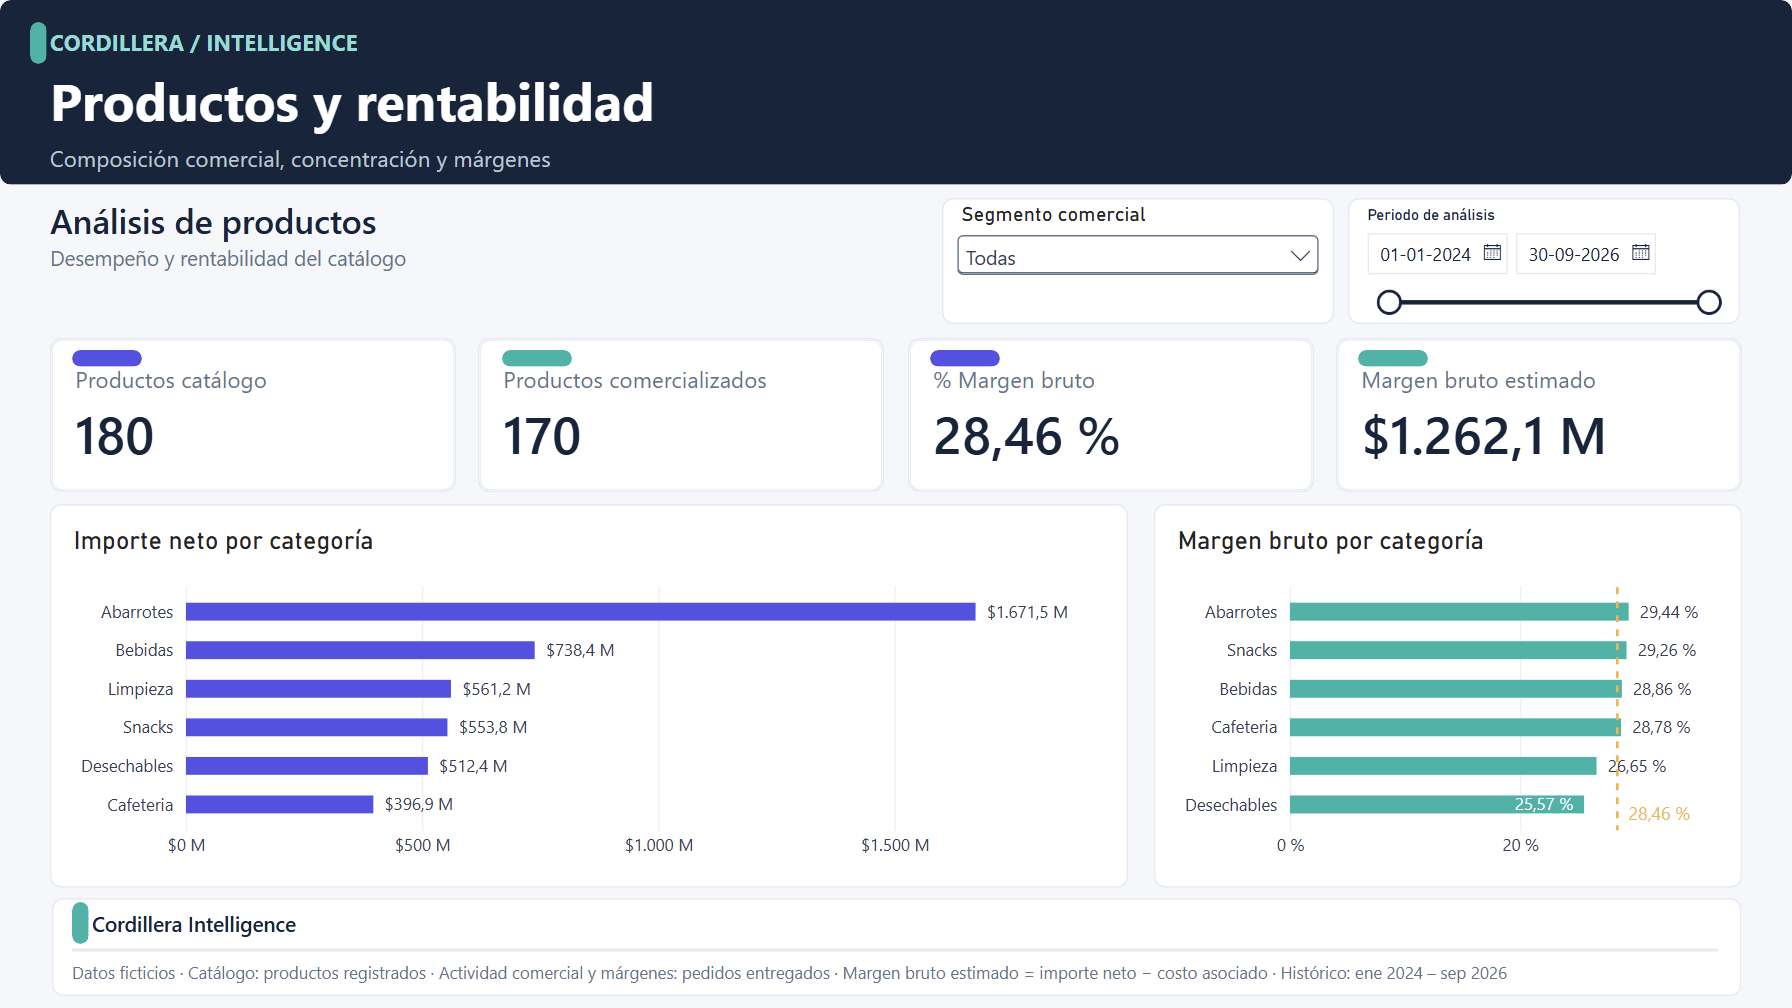

Layout of this report page (visuals, bound fields, positions):
{"tool":"powerbi","page":{"name":"03_Productos y rentabilidad","canvas":[1280,720],"ordinal":2},"visuals":[{"type":"shape","box":[0,0,1280,132],"z":0},{"type":"textbox","box":[36,18,600,28],"z":1000},{"type":"textbox","box":[36,46,720,50],"z":2000},{"type":"textbox","box":[36,101,700,26],"z":3000},{"type":"shape","box":[21,15,12,30],"z":4000},{"type":"slicer","fields":{"Values":["dim_cliente.segmento"]},"box":[673.3,141.7,280,90],"z":5000},{"type":"slicer","fields":{"Values":["dim_fecha.fecha"]},"box":[963.3,141.7,280,90],"z":6000},{"type":"textbox","box":[36,142,350,54],"z":7000},{"type":"textbox","box":[36,174,350,30],"z":8000},{"type":"cardVisual","fields":{"Data":["dim_producto.Productos catálogo"]},"box":[36,242,290,110],"z":9000},{"type":"cardVisual","fields":{"Data":["dim_producto.Productos comercializados"]},"box":[342,242,290,110],"z":10000},{"type":"cardVisual","fields":{"Data":["select","fact_detalle_pedidos.% Margen bruto"]},"box":[648,242,290,110],"z":11000},{"type":"cardVisual","fields":{"Data":["fact_detalle_pedidos.Margen bruto estimado"]},"box":[954,242,290,110],"z":12000},{"type":"shape","box":[52,250,50,12],"z":13000},{"type":"shape","box":[358,250,50,12],"z":14000},{"type":"shape","box":[664,250,50,12],"z":15000},{"type":"shape","box":[970,250,50,12],"z":16000},{"type":"shape","box":[36.7,642,1206.7,70],"z":17000},{"type":"textbox","box":[66,650,500,25],"z":18000},{"type":"shape","box":[52,668,1176,20],"z":19000},{"type":"textbox","box":[52,684,1176,20],"z":20000},{"type":"shape","box":[51.7,645,12,30],"z":21000},{"type":"clusteredBarChart","title":"Importe neto por categoría","fields":{"Category":["dim_producto.nombre_categoria"],"Y":["fact_detalle_pedidos.Importe neto entregado"]},"box":[36,360,770,274],"z":22000},{"type":"clusteredBarChart","title":"Margen bruto por categoría","fields":{"Category":["dim_producto.nombre_categoria"],"Y":["fact_detalle_pedidos.% Margen bruto"]},"box":[824,360,420,274],"z":23000}]}

Visuals, with their boxes in screenshot pixels (x1, y1, x2, y2), scaled from the page's 1280x720 canvas onto the 1792x1008 screenshot:
shape: l=0, t=0, r=1791, b=185
textbox: l=50, t=25, r=890, b=64
textbox: l=50, t=64, r=1058, b=134
textbox: l=50, t=141, r=1030, b=178
shape: l=29, t=21, r=46, b=63
slicer - dim_cliente.segmento: l=943, t=198, r=1335, b=324
slicer - dim_fecha.fecha: l=1349, t=198, r=1741, b=324
textbox: l=50, t=199, r=540, b=274
textbox: l=50, t=244, r=540, b=286
cardVisual - dim_producto.Productos catálogo: l=50, t=339, r=456, b=493
cardVisual - dim_producto.Productos comercializados: l=479, t=339, r=885, b=493
cardVisual - select x fact_detalle_pedidos.% Margen bruto: l=907, t=339, r=1313, b=493
cardVisual - fact_detalle_pedidos.Margen bruto estimado: l=1336, t=339, r=1742, b=493
shape: l=73, t=350, r=143, b=367
shape: l=501, t=350, r=571, b=367
shape: l=930, t=350, r=1000, b=367
shape: l=1358, t=350, r=1428, b=367
shape: l=51, t=899, r=1741, b=997
textbox: l=92, t=910, r=792, b=945
shape: l=73, t=935, r=1719, b=963
textbox: l=73, t=958, r=1719, b=986
shape: l=72, t=903, r=89, b=945
"Importe neto por categoría" clusteredBarChart: l=50, t=504, r=1128, b=888
"Margen bruto por categoría" clusteredBarChart: l=1154, t=504, r=1742, b=888
